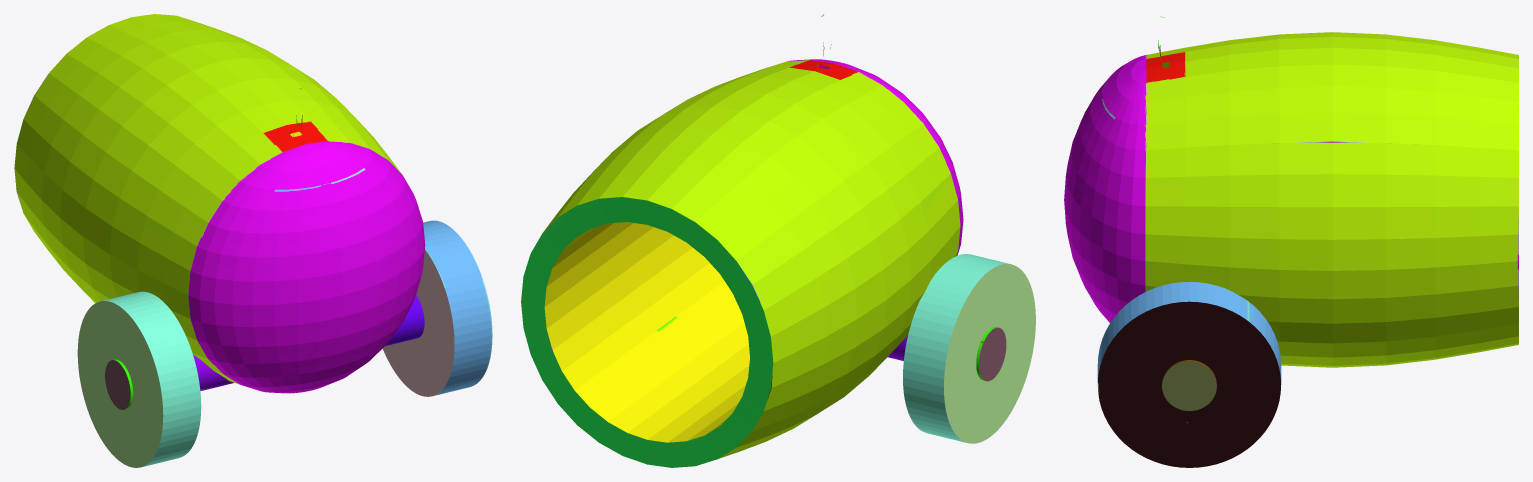
Rendered from cannon.obj.
3 renders of one model, left to right at view 1: azimuth 30°, elevation 25°; view 2: azimuth 150°, elevation 25°; view 3: azimuth 270°, elevation 25°, orthographic. The views are drawn at different scales.
Parts seen in each view (by area): view 1: Cannon; view 2: Cannon; view 3: Cannon.
Part boxes in pixels (x1,y1,x2,y2): Cannon: (14, 14, 492, 467); Cannon: (521, 14, 1035, 467); Cannon: (1064, 16, 1518, 467).
Bounding box in the file's own units: 4.52 × 4.41 × 4.96.
